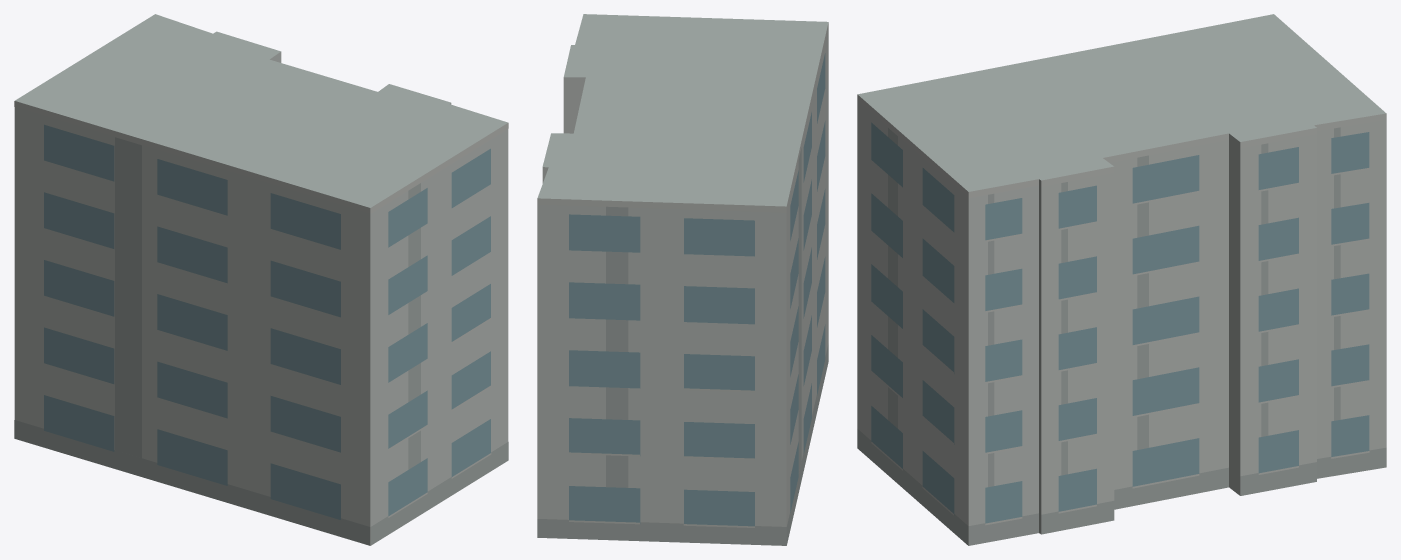
File: survey-upis-32968744.glb
The picture shows the model from 3 angles, left to right: view 1: azimuth 30°, elevation 25°; view 2: azimuth 150°, elevation 25°; view 3: azimuth 270°, elevation 25°; orthographic projection. The views are drawn at different scales.
Parts seen in each view (by area): view 1: survey-upis-32968744.tmp; view 2: survey-upis-32968744.tmp; view 3: survey-upis-32968744.tmp.
Part boxes in pixels (x1,y1,x2,y2): survey-upis-32968744.tmp: [14, 14, 508, 545]; survey-upis-32968744.tmp: [537, 14, 828, 545]; survey-upis-32968744.tmp: [857, 14, 1386, 545].
Bounding box in the file's own units: 14.51 × 13.45 × 18.23.
